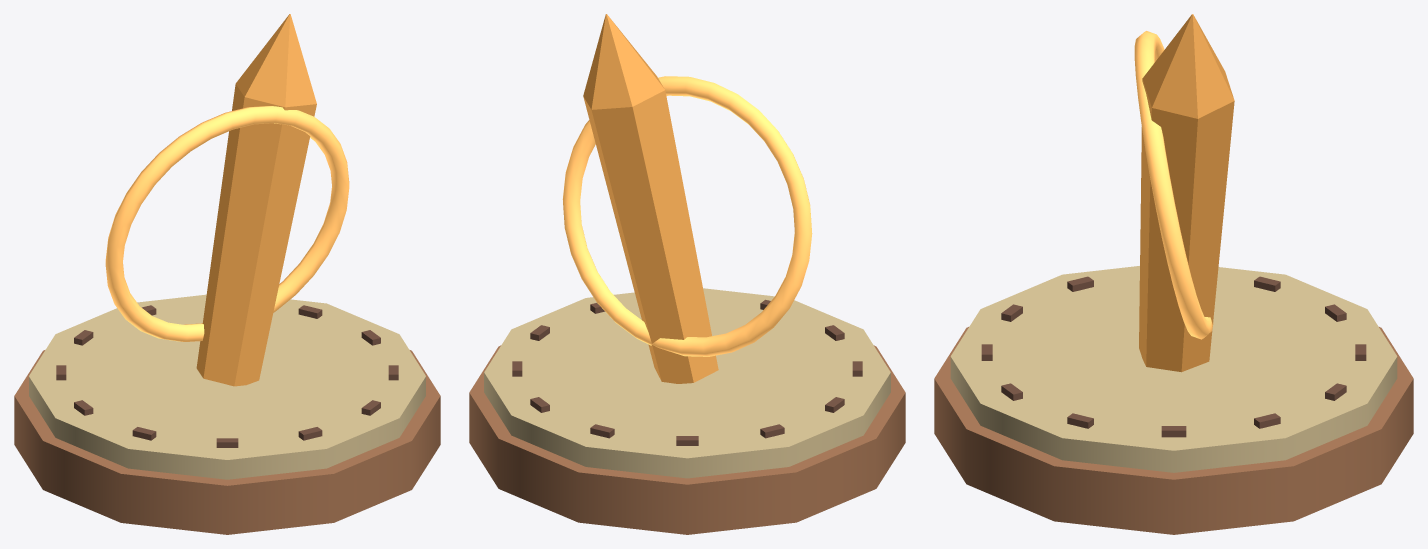
The model's file is sun-dial.glb.
The picture shows the model from 3 angles, left to right: view 1: azimuth 30°, elevation 25°; view 2: azimuth 150°, elevation 25°; view 3: azimuth 270°, elevation 25°; orthographic projection. The views are drawn at different scales.
Parts seen in each view (by area): view 1: Vesper / sun-dial; view 2: Vesper / sun-dial; view 3: Vesper / sun-dial.
Part boxes in pixels (x1,y1,x2,y2): Vesper / sun-dial: (14,14,440,534); Vesper / sun-dial: (469,14,905,534); Vesper / sun-dial: (934,14,1413,534).
Size of the model in its own units: 2.36 by 2.49 by 2.36.
